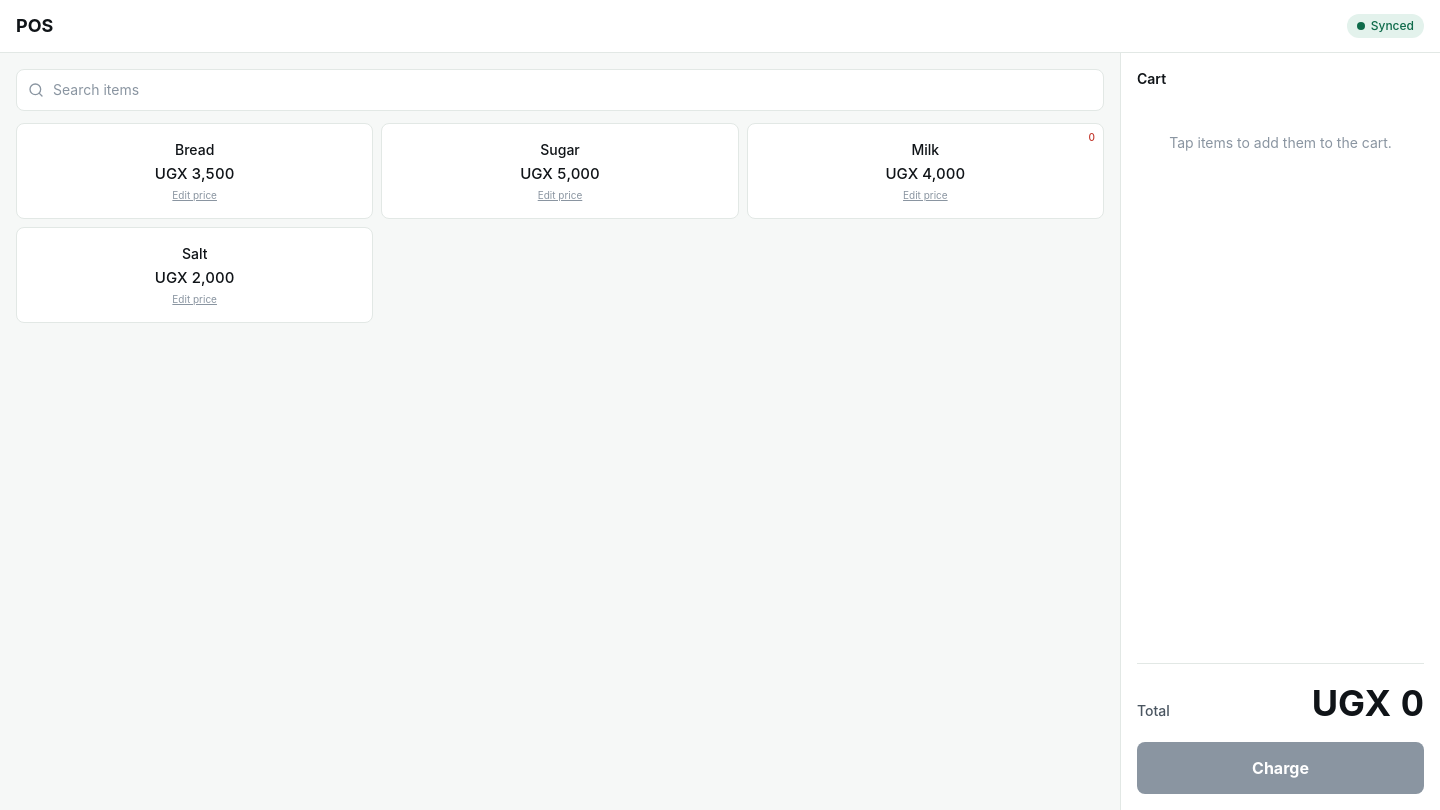
it: POS Page › price-edit one-tap opens numeric keypad
Expected: the text "Bread" is shown, [175, 140, 214, 160]
Click the 1st button "Edit price" at [195, 195], box [172, 188, 217, 202]
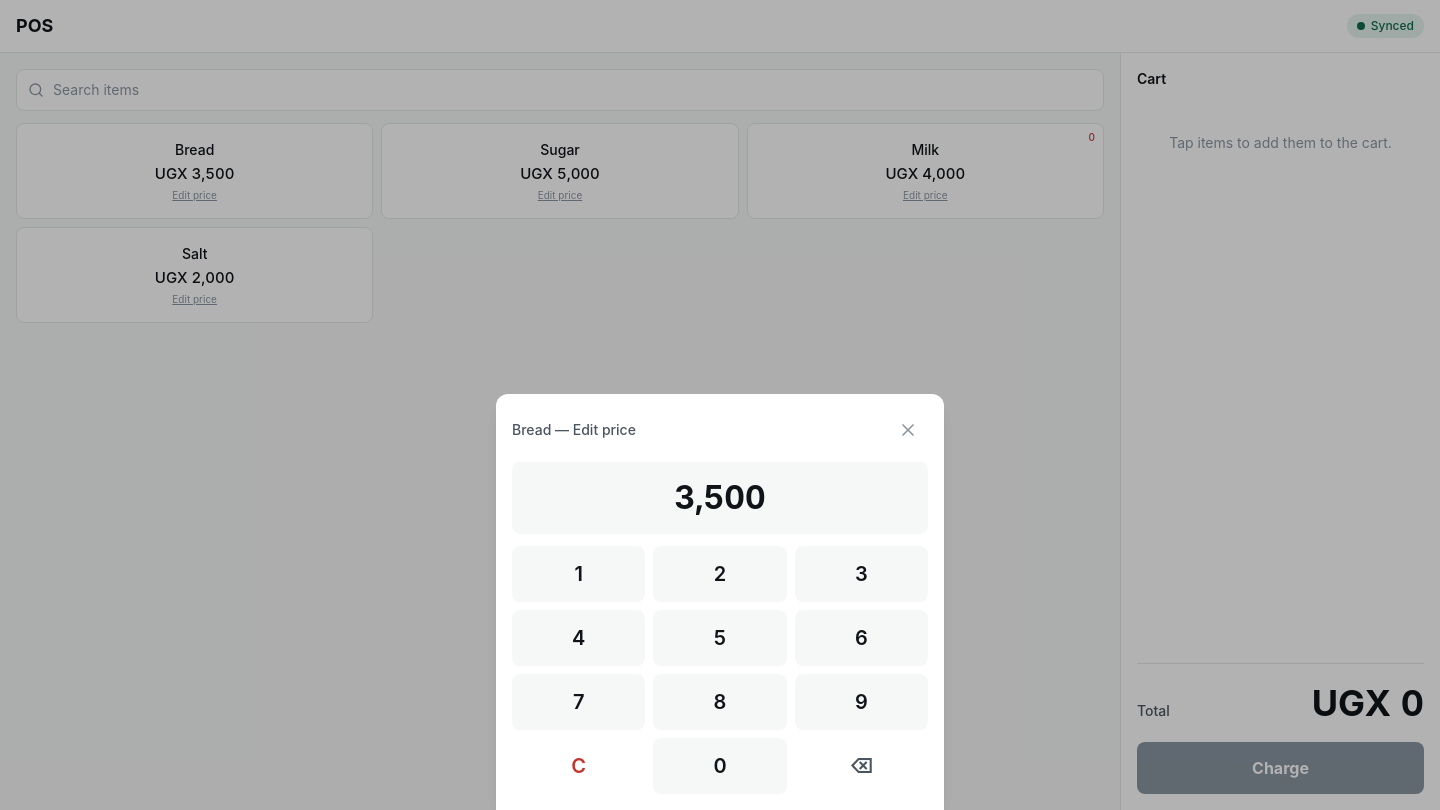
Now the text "Bread — Edit price" is shown, box [512, 420, 636, 440]
